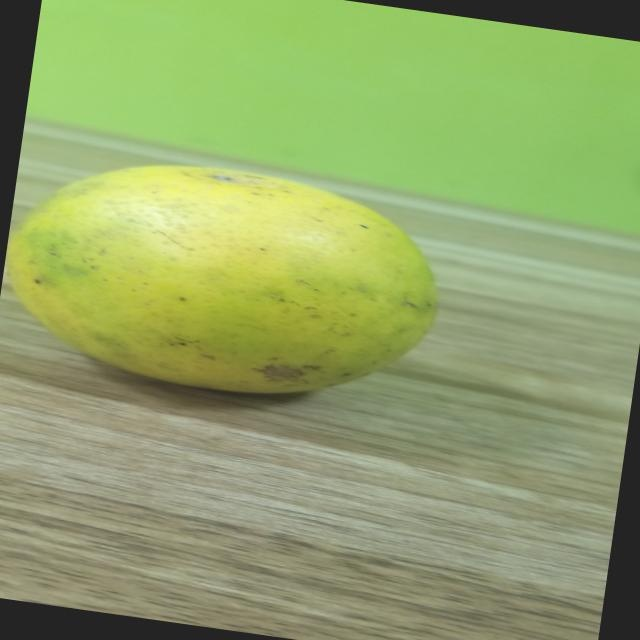agrume: (0, 135, 472, 430)
